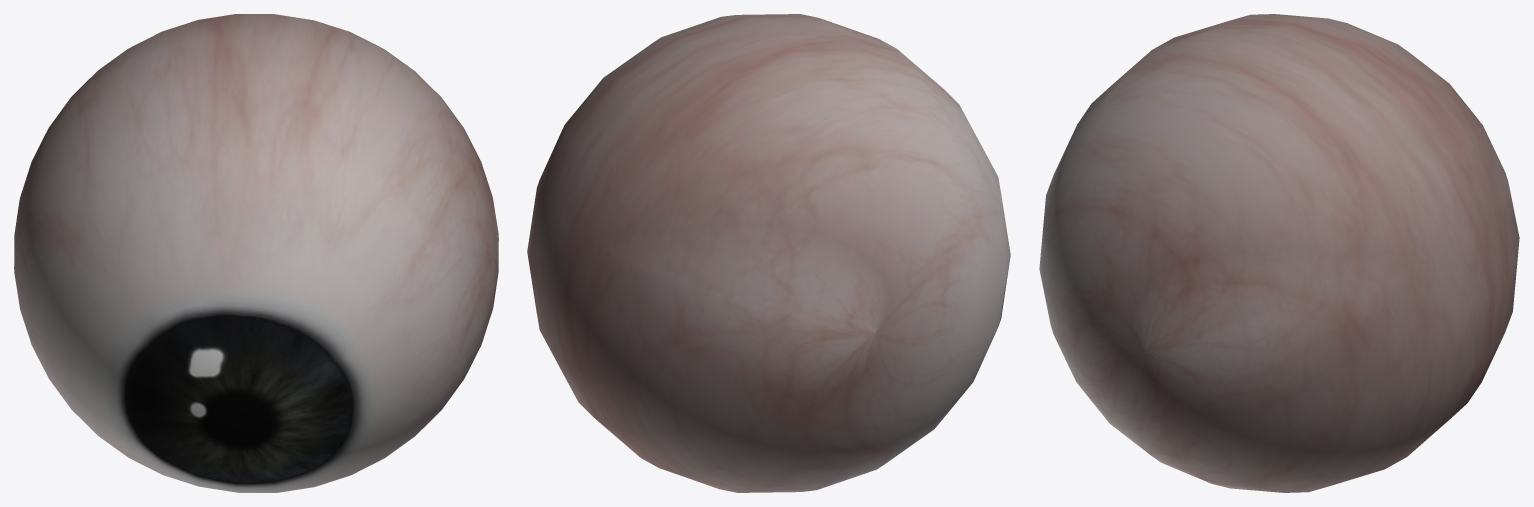
File: EyeBall2.obj
3 renders of one model, left to right at view 1: azimuth 30°, elevation 25°; view 2: azimuth 150°, elevation 25°; view 3: azimuth 270°, elevation 25°, orthographic.
Parts seen in each view (by area): view 1: pSphere1; view 2: pSphere1; view 3: pSphere1.
Part boxes in pixels (bbox=[...]): pSphere1: bbox=[14, 14, 498, 492]; pSphere1: bbox=[527, 14, 1010, 492]; pSphere1: bbox=[1039, 14, 1519, 492].
Size of the model in its own units: 1.19 by 1.19 by 1.19.
1 material, 1 textured.
